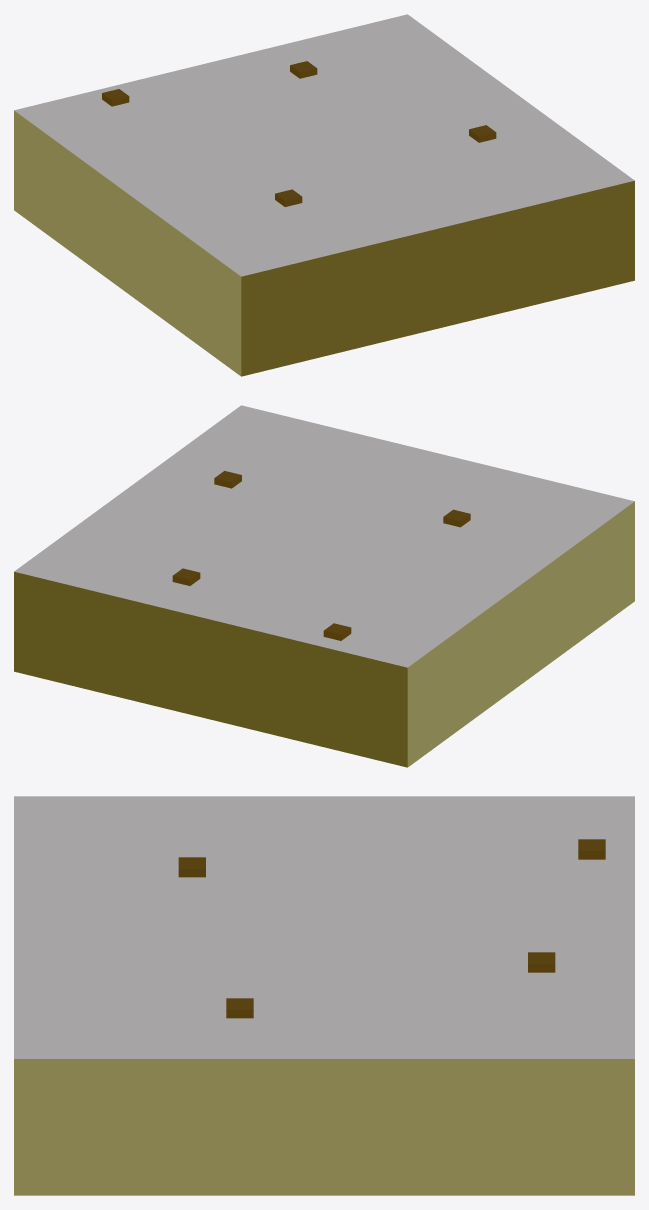
Rendered from room.glb.
3 renders of one model, top to bottom at view 1: azimuth 30°, elevation 25°; view 2: azimuth 150°, elevation 25°; view 3: azimuth 270°, elevation 25°, orthographic. The views are drawn at different scales.
Parts seen in each view (by area): view 1: Room; view 2: Room; view 3: Room.
Boxes of the visible parts, box(x1,y1,x2,y2) form: Room: box(14, 14, 634, 376); Room: box(14, 405, 634, 767); Room: box(14, 796, 634, 1195).
Bounding box in the file's own units: 16.49 × 4.38 × 16.49.
